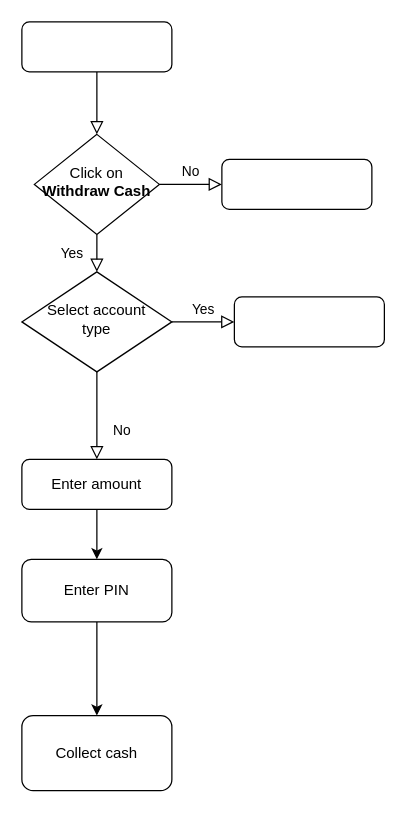
Some shapes in this 406 by 813 pixel diagram are drawn without their labels. Each missing label, with the box of its shape:
Insert ATM card: (21, 21, 172, 72)
Plug in lamp: (221, 158, 372, 209)
Replace Bulb: (233, 296, 384, 347)
